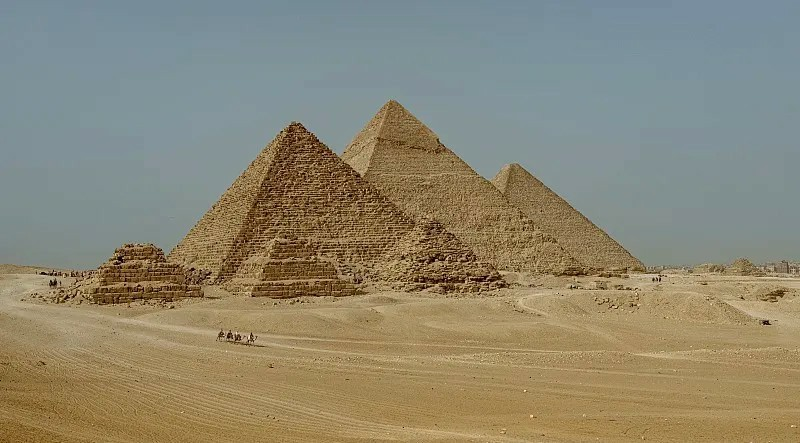Pyramid: (340, 100, 594, 274), (167, 123, 417, 286), (492, 163, 647, 271), (368, 215, 509, 292), (225, 230, 367, 297), (75, 241, 204, 304)
